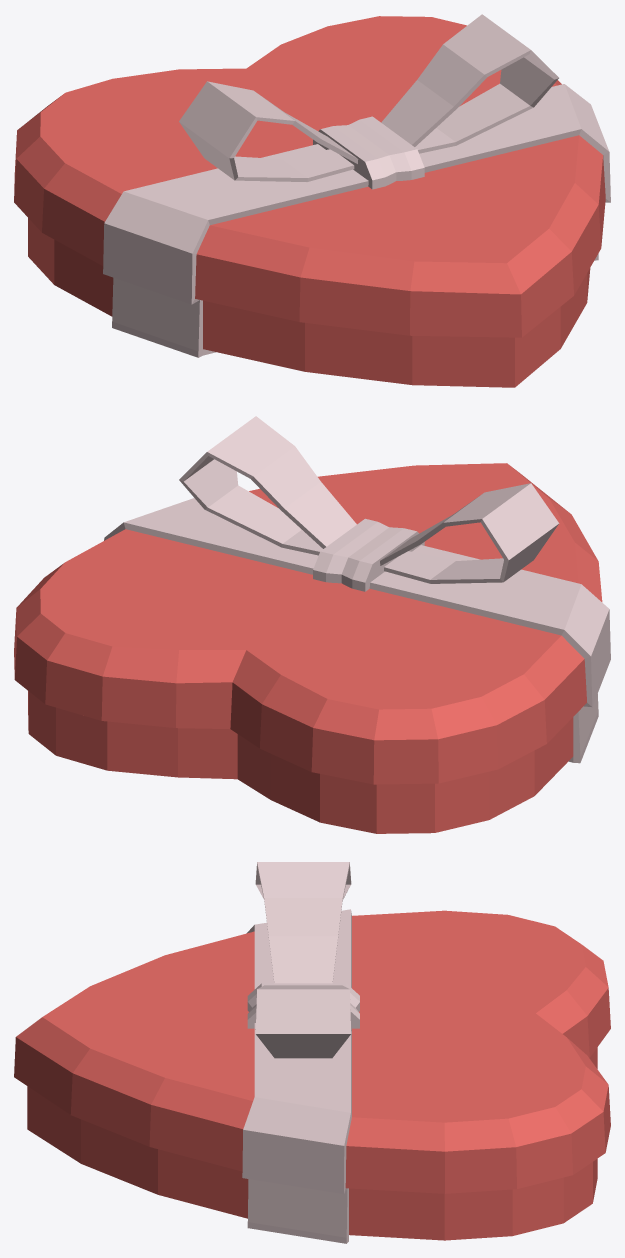
File: HeartChocolates.fbx
3 views of the same model, one above another, from view 1: azimuth 30°, elevation 25°; view 2: azimuth 150°, elevation 25°; view 3: azimuth 270°, elevation 25° (orthographic). The views are drawn at different scales.
Visible parts, largest first — view 1: HeartChocolates; view 2: HeartChocolates; view 3: HeartChocolates.
Part boxes in pixels (x1=…): HeartChocolates: x1=14, y1=14, x2=610, y2=387; HeartChocolates: x1=14, y1=416, x2=610, y2=833; HeartChocolates: x1=14, y1=862, x2=610, y2=1243.
Size of the model in its own units: 210 by 88.31 by 227.
